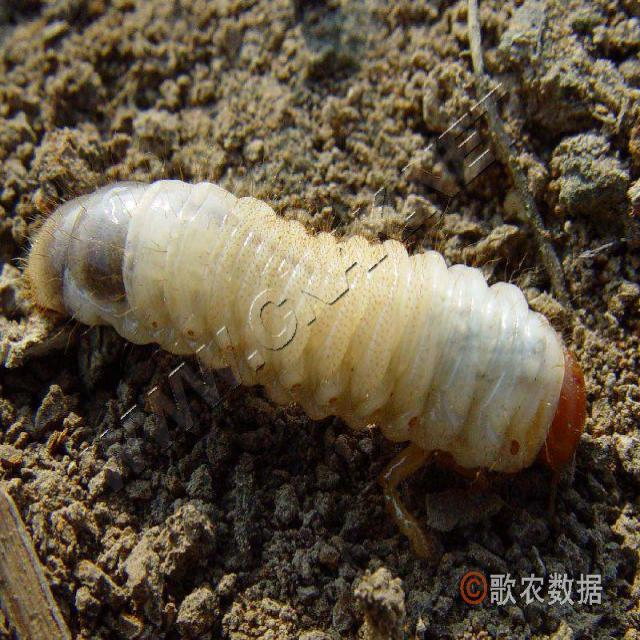Grub-Adult-: (15, 165, 593, 494)
